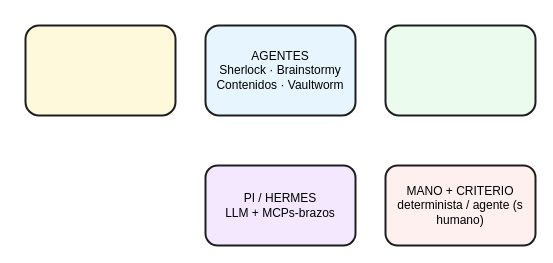
This 553x263 diagram has some shape labels left out. The centre of each missing label's shape, as x and y in pixels:
FUENTES Video YT / OBS Imagen IG / JPG Texto revista / paper: point (100, 70)
WIKI COMUN fractal · iterable · rizomatica Front Matter: point (460, 70)
